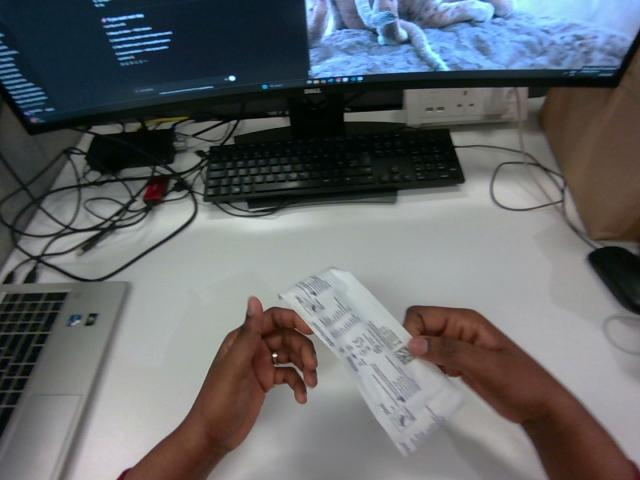syringe: (280, 268, 462, 455)
